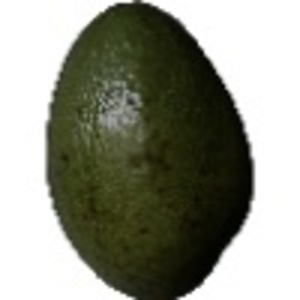abacate: (38, 1, 255, 297)
